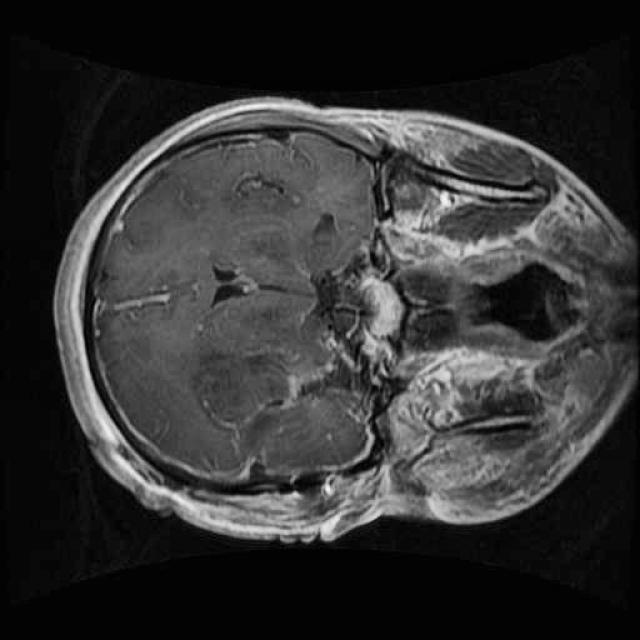Non-Tumor: (185, 334, 380, 488)
